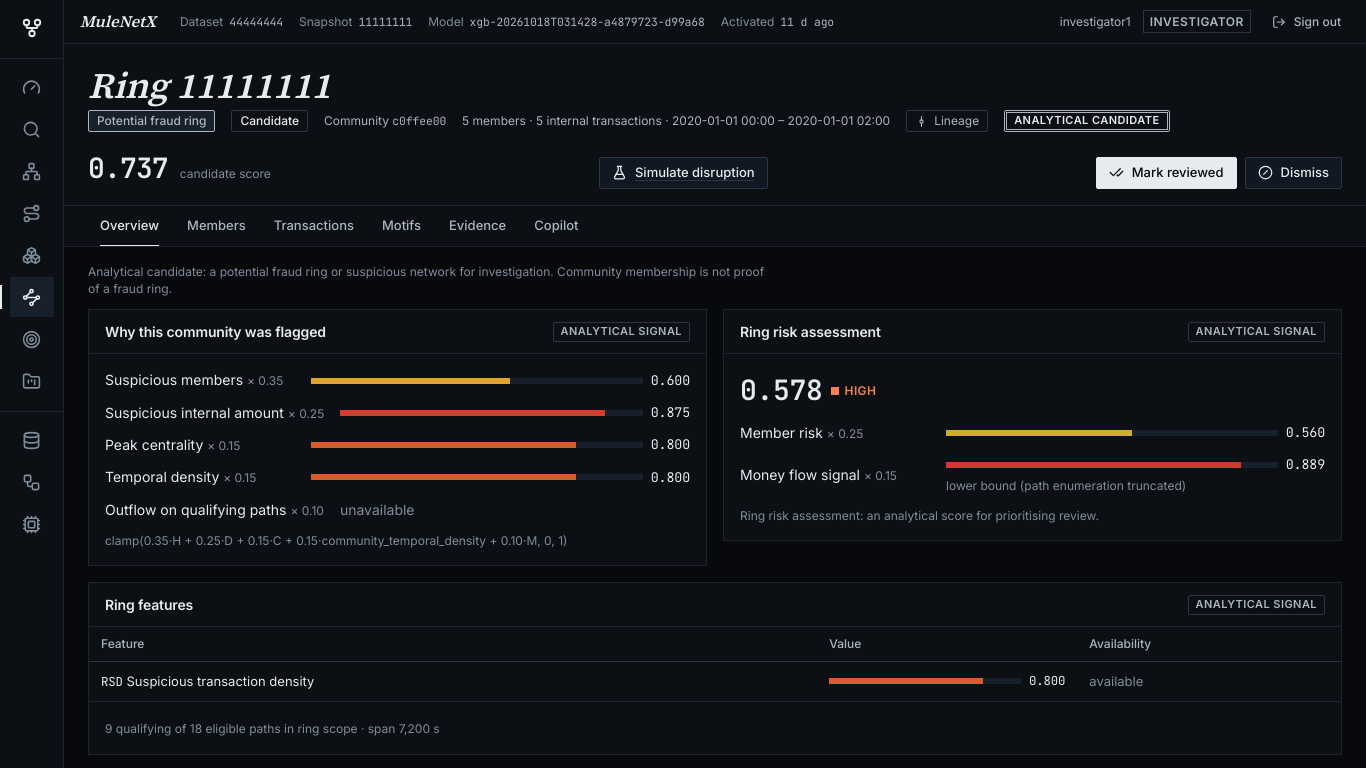
Test: rings and motifs (T35) › offers review to investigators and records the server's answer
The image size is (1366, 768).
Click the button "Mark reviewed" at coordinates (1166, 173), box [1096, 157, 1236, 189]
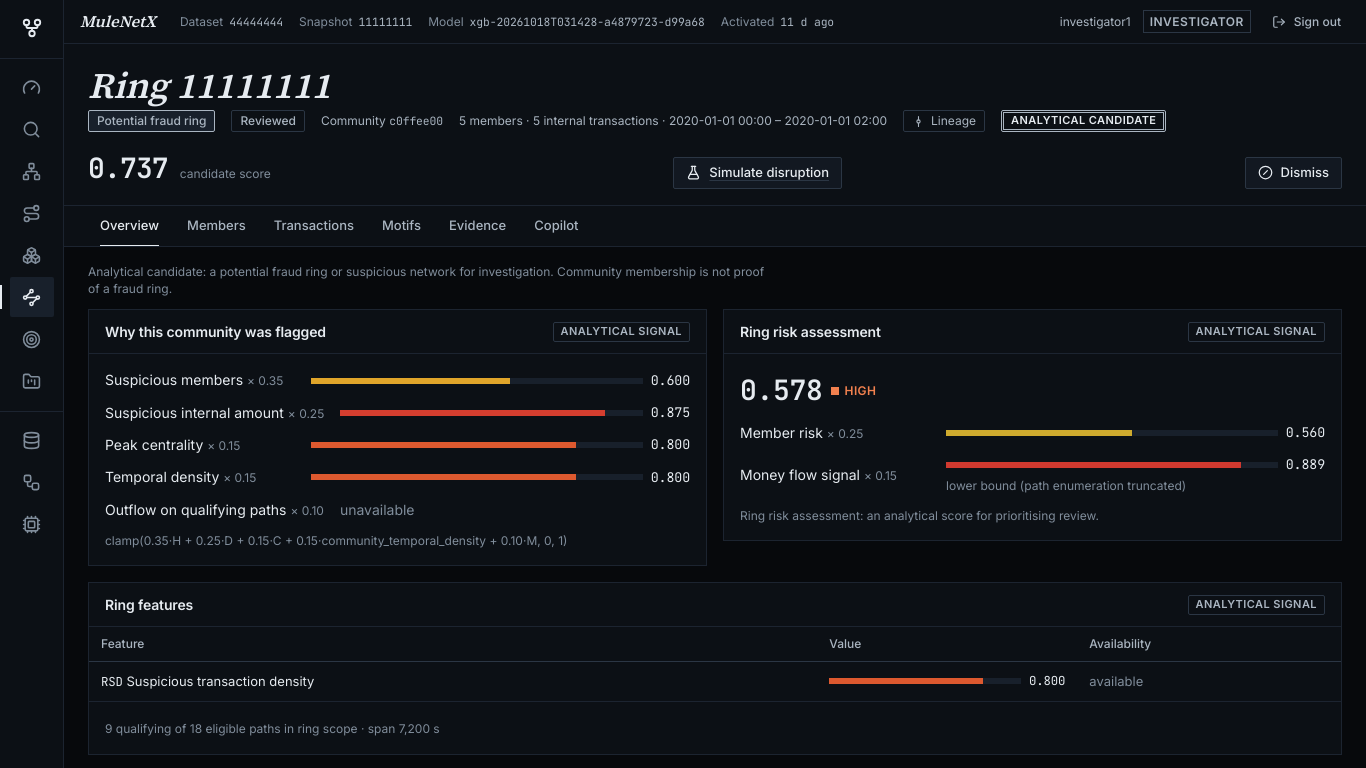
Expected: the text "Reviewed" is shown, [232, 110, 305, 132]
